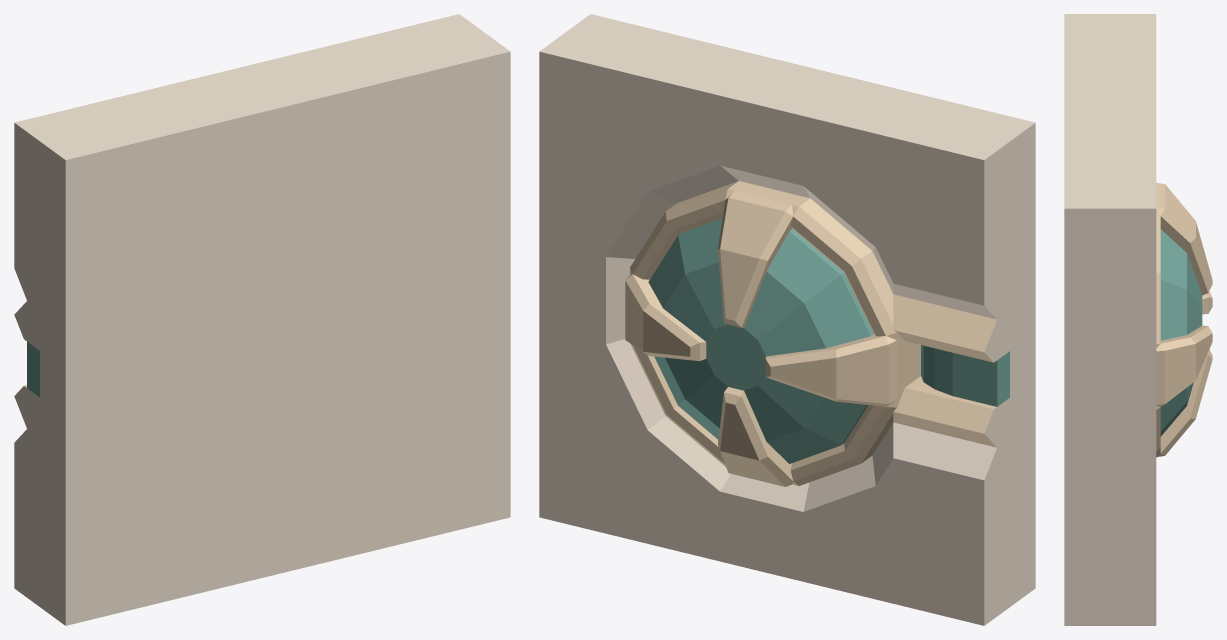
The model's file is Puzzle_Wall_Conduit_Indicator_1.glb.
The picture shows the model from 3 angles, left to right: view 1: azimuth 30°, elevation 25°; view 2: azimuth 150°, elevation 25°; view 3: azimuth 270°, elevation 25°; orthographic projection. The views are drawn at different scales.
Parts seen in each view (by area): view 1: Puzzle_Wall_Conduit_Indicator_1; view 2: Puzzle_Wall_Conduit_Indicator_1; view 3: Puzzle_Wall_Conduit_Indicator_1.
Boxes of the visible parts, x1,y1,x2,y2 form: Puzzle_Wall_Conduit_Indicator_1: (14,14,510,625); Puzzle_Wall_Conduit_Indicator_1: (539,14,1035,625); Puzzle_Wall_Conduit_Indicator_1: (1064,14,1212,625).
Bounding box in the file's own units: 1 × 1 × 0.3222.
